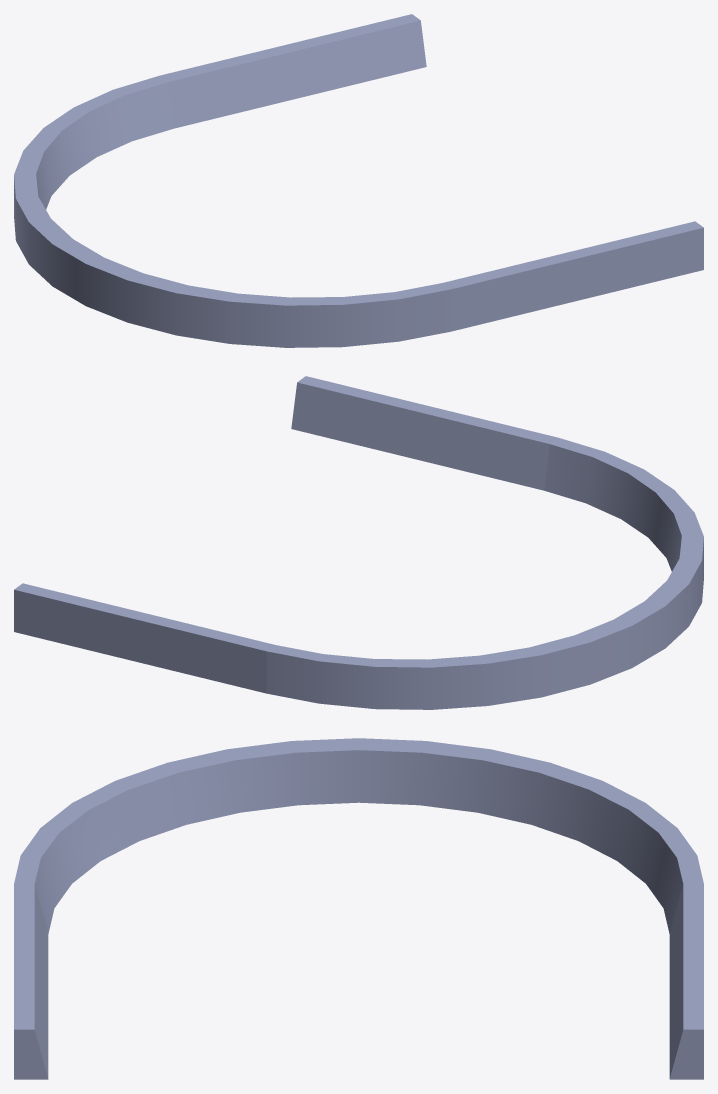
The model's file is road-end-round-barrier.glb.
3 renders of one model, top to bottom at view 1: azimuth 30°, elevation 25°; view 2: azimuth 150°, elevation 25°; view 3: azimuth 270°, elevation 25°, orthographic. The views are drawn at different scales.
Visible parts, largest first — view 1: road-end-round-barrier; view 2: road-end-round-barrier; view 3: road-end-round-barrier.
Boxes of the visible parts, <box> form: road-end-round-barrier: <box>14,14,703,347</box>; road-end-round-barrier: <box>14,376,703,709</box>; road-end-round-barrier: <box>14,738,703,1079</box>.
Bounding box in the file's own units: 1 × 0.08 × 1.
1 material, 1 textured.
